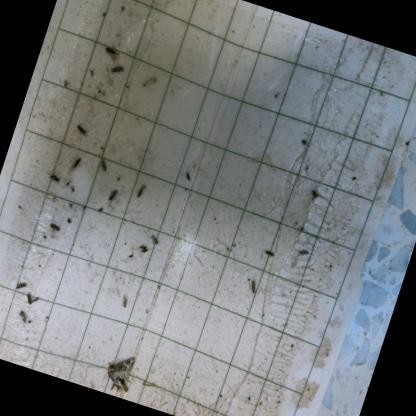prays_oleae: (72, 116, 92, 142), (100, 37, 120, 60), (13, 306, 34, 327), (20, 288, 40, 310), (46, 214, 64, 237), (245, 274, 262, 298), (103, 183, 121, 205), (96, 154, 112, 174), (108, 62, 126, 79), (46, 170, 63, 188), (70, 154, 85, 172), (137, 238, 151, 254), (134, 186, 147, 202), (16, 280, 26, 294)
